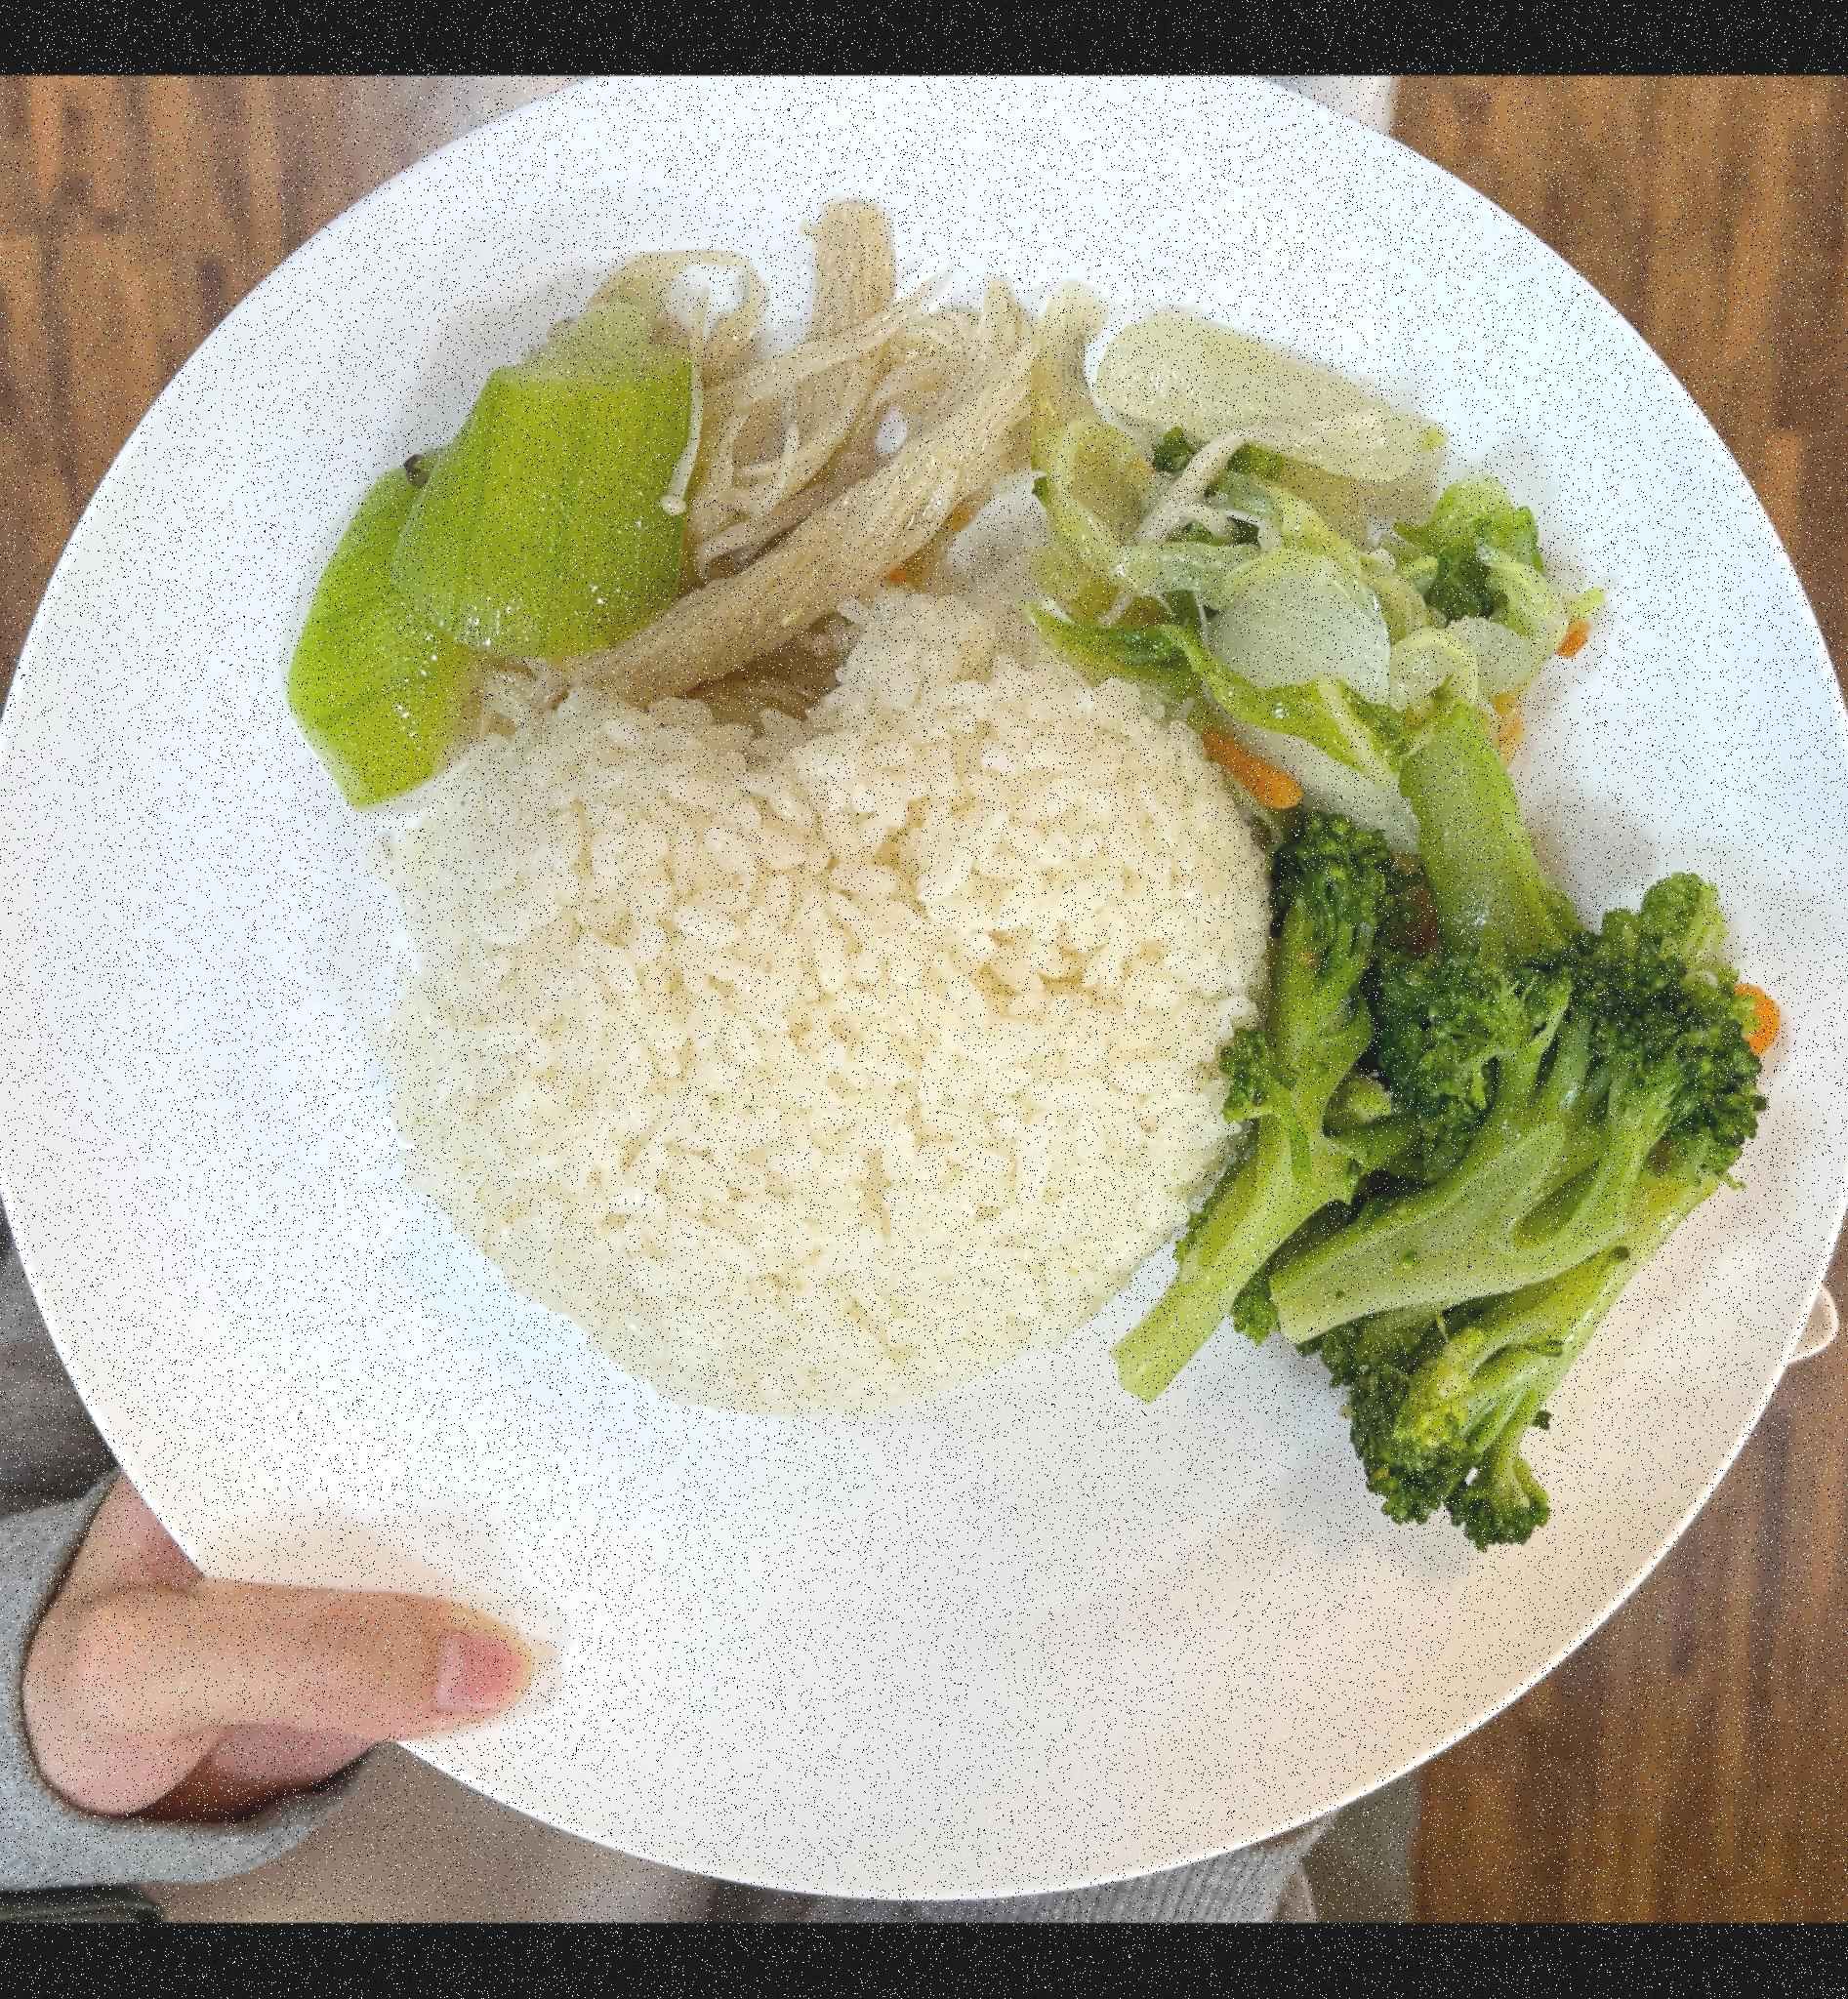big fried chicken leg: (0, 108, 1848, 1896)
big herbal chicken leg: (378, 597, 1292, 1416)
braised fish fillet: (1134, 817, 1799, 1525), (1052, 308, 1672, 785), (256, 273, 712, 801), (667, 230, 1056, 700)
